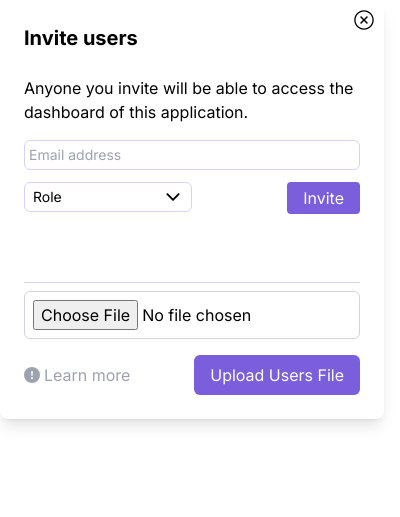
Test: InviteForm › validates email input
The image size is (400, 517).
Step 1. Type "invalid-email" into the field with placeholder "Email address" → (192, 155), box [24, 140, 360, 170]
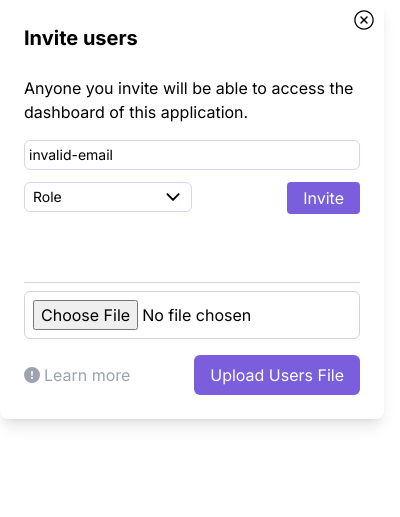
Step 2. Click the button "Invite" → (324, 198), box [287, 182, 360, 214]
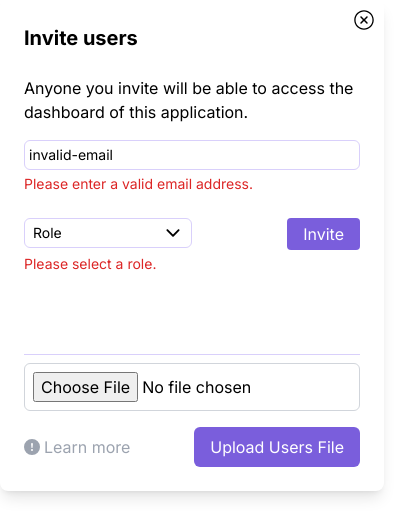
Now the text "Please enter a valid email address." is shown, box [24, 175, 253, 192]
